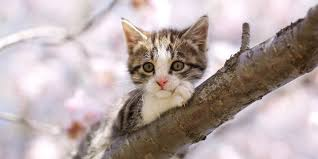Gato: (110, 13, 214, 107)
